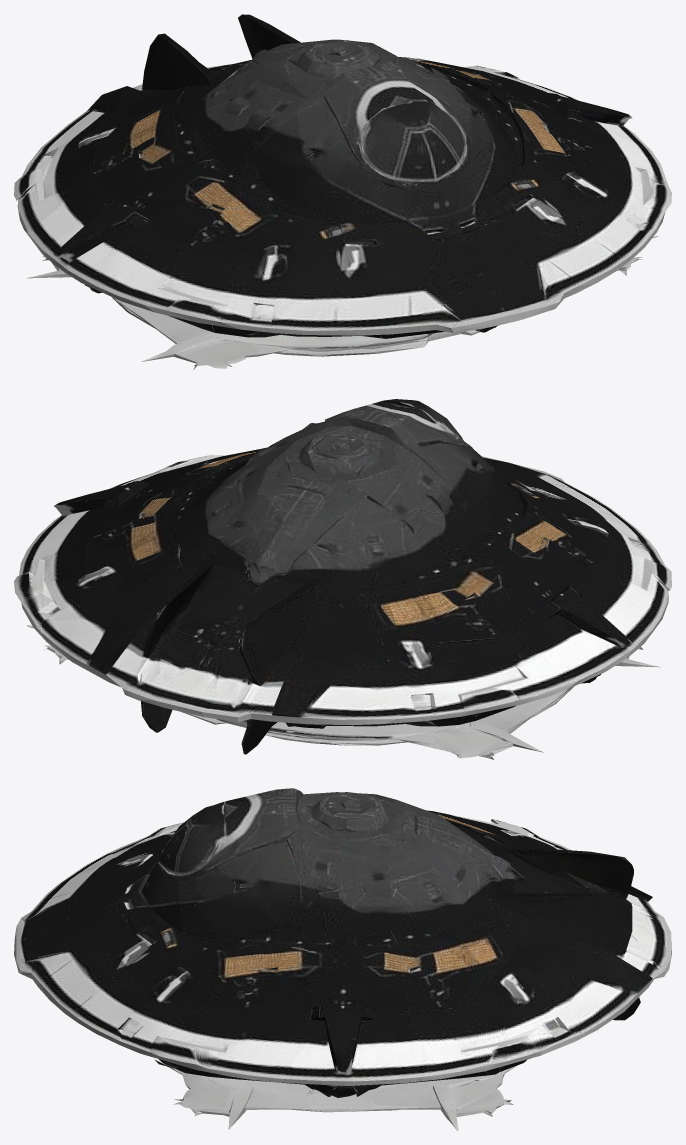
The model's file is nation-q-carrier.glb.
3 renders of one model, top to bottom at view 1: azimuth 30°, elevation 25°; view 2: azimuth 150°, elevation 25°; view 3: azimuth 270°, elevation 25°, orthographic.
Bounding box in the file's own units: 1.9 × 0.7177 × 1.9.
1 material, 1 textured.
